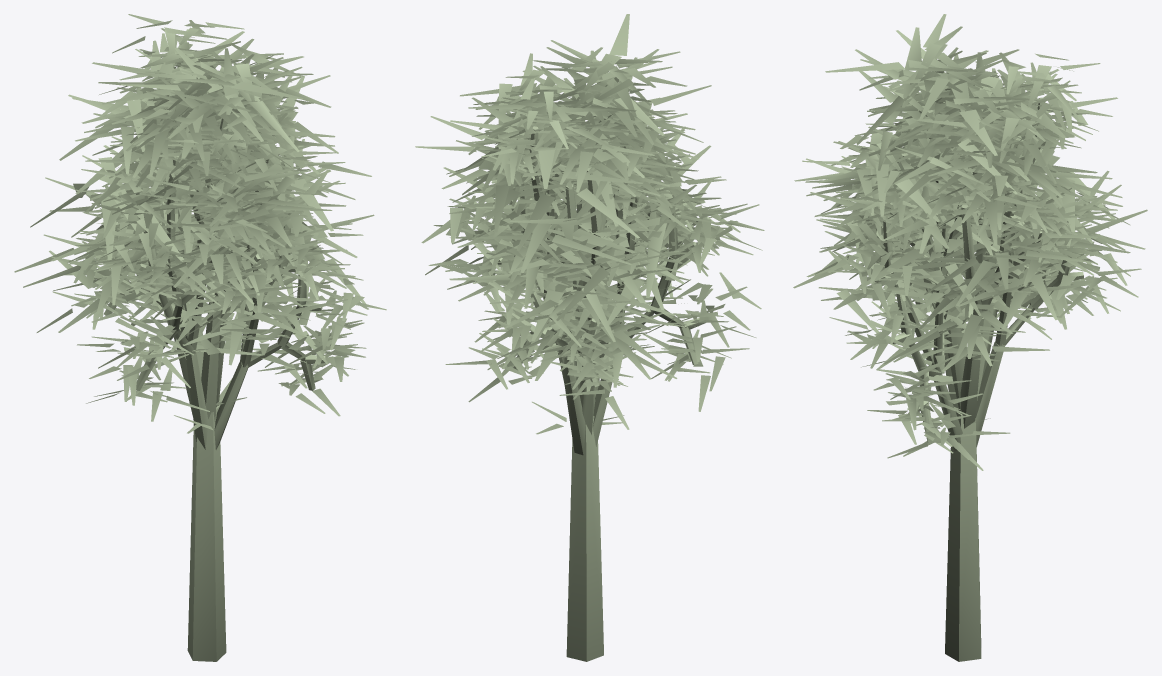
File: tree_cherry.glb
3 renders of one model, left to right at view 1: azimuth 30°, elevation 25°; view 2: azimuth 150°, elevation 25°; view 3: azimuth 270°, elevation 25°, orthographic. The views are drawn at different scales.
Parts seen in each view (by area): view 1: tier2_foliage, tier1_foliage, tier0_foliage, tier0_bark, tier2_bark, tier1_bark; view 2: tier1_foliage, tier2_foliage, tier0_foliage, tier0_bark, tier2_bark, tier1_bark; view 3: tier1_foliage, tier2_foliage, tier0_foliage, tier0_bark, tier2_bark, tier1_bark.
Boxes of the visible parts, x1=… form: tier2_foliage: x1=36, y1=14, x2=386, y2=433; tier1_foliage: x1=14, y1=27, x2=374, y2=365; tier0_foliage: x1=51, y1=31, x2=357, y2=367; tier0_bark: x1=159, y1=159, x2=227, y2=661; tier2_bark: x1=104, y1=54, x2=325, y2=449; tier1_bark: x1=117, y1=118, x2=277, y2=423; tier1_foliage: x1=415, y1=40, x2=726, y2=387; tier2_foliage: x1=445, y1=75, x2=764, y2=434; tier0_foliage: x1=449, y1=14, x2=714, y2=375; tier0_bark: x1=565, y1=184, x2=603, y2=661; tier2_bark: x1=497, y1=126, x2=705, y2=455; tier1_bark: x1=520, y1=167, x2=638, y2=434; tier1_foliage: x1=793, y1=14, x2=1145, y2=371; tier2_foliage: x1=802, y1=53, x2=1141, y2=470; tier0_foliage: x1=814, y1=27, x2=1147, y2=383; tier0_bark: x1=919, y1=163, x2=998, y2=661; tier2_bark: x1=875, y1=97, x2=1083, y2=451; tier1_bark: x1=890, y1=110, x2=1031, y2=428.
Bounding box in the file's own units: 0.5095 × 1 × 0.5368.
